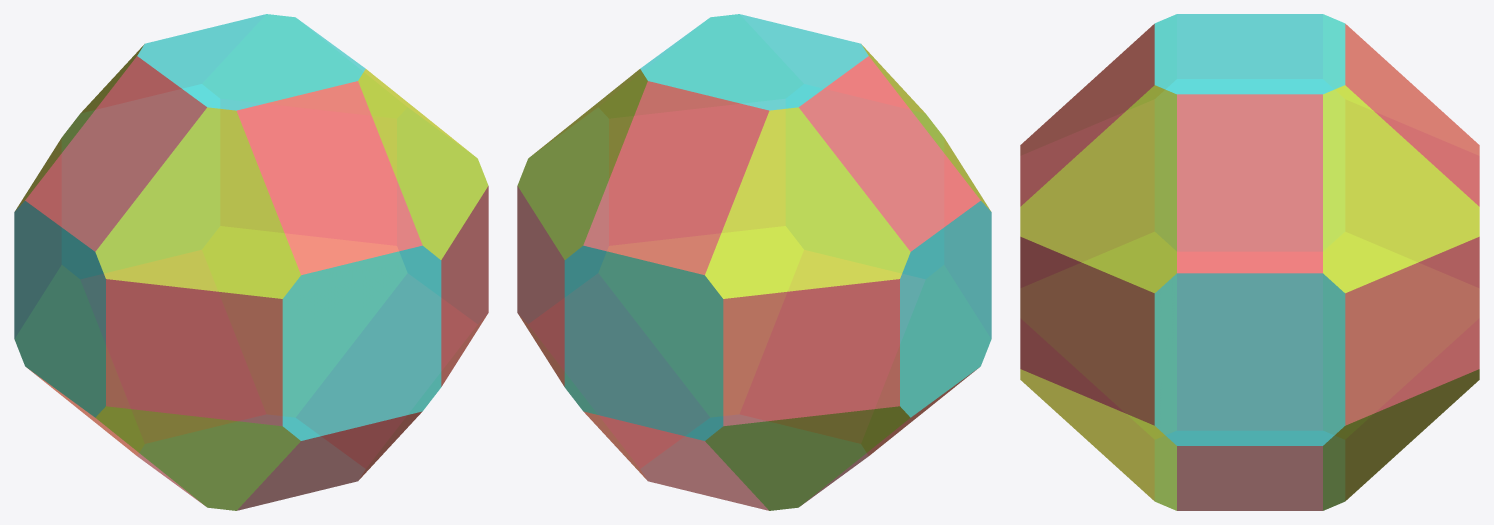
Rendered from BiscribedTruncatedCuboctahedron.obj.
The picture shows the model from 3 angles, left to right: view 1: azimuth 30°, elevation 25°; view 2: azimuth 150°, elevation 25°; view 3: azimuth 270°, elevation 25°; orthographic projection. The views are drawn at different scales.
Size of the model in its own units: 2 by 2 by 2.
